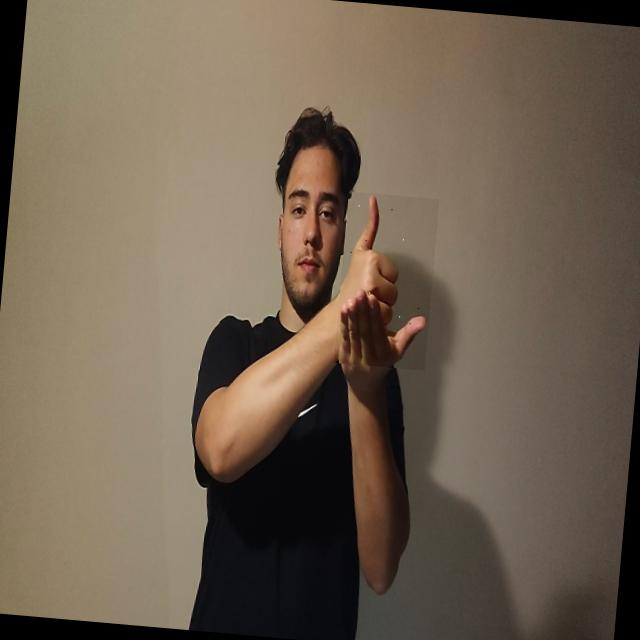help: (334, 191, 441, 370)
